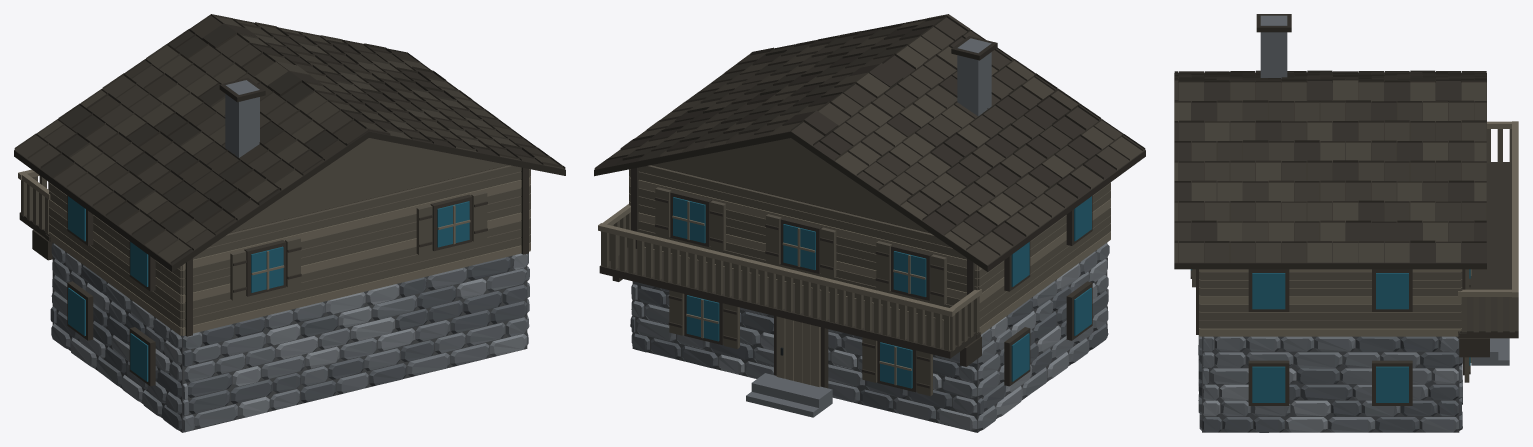
The model's file is Baita_Grigia_Stagionata.obj.
3 views of the same model, side by side, from view 1: azimuth 30°, elevation 25°; view 2: azimuth 150°, elevation 25°; view 3: azimuth 270°, elevation 25° (orthographic).
Parts seen in each view (by area): view 1: Scandole_Legno, Pietre_Facciata_2, Tavole_Orizzontali, Pietre_Facciata_3, Frontoni_Legno, Nucleo_Piano_Terra, Tetto_Base, Persiane, Vetro_Laterale, Vetro, Camino, Cornice_Laterale (+3 smaller); view 2: Scandole_Legno, Tavole_Orizzontali, Pietre_Facciata_1, Listelli_Parapetto, Pietre_Facciata_3, Frontoni_Legno, Persiane, Vetro, Pavimento_Balcone, Tetto_Base, Cornice_Finestra, Corrimano (+12 smaller); view 3: Scandole_Legno, Pietre_Facciata_4, Tavole_Orizzontali, Tetto_Base, Pavimento_Balcone, Vetro_Laterale, Nucleo_Piano_Terra, Cornice_Laterale, Camino, Listelli_Laterali, Corrimano, Gradini (+5 smaller).
Boxes of the visible parts, left/top/right/bottom form: Scandole_Legno: left=14, top=14, right=565, bottom=264; Pietre_Facciata_2: left=182, top=253, right=527, bottom=431; Tavole_Orizzontali: left=49, top=165, right=530, bottom=335; Pietre_Facciata_3: left=50, top=243, right=181, bottom=430; Frontoni_Legno: left=230, top=138, right=507, bottom=232; Nucleo_Piano_Terra: left=52, top=242, right=527, bottom=432; Tetto_Base: left=14, top=131, right=565, bottom=271; Persiane: left=230, top=191, right=487, bottom=300; Vetro_Laterale: left=68, top=196, right=148, bottom=381; Vetro: left=251, top=201, right=469, bottom=292; Camino: left=225, top=80, right=259, bottom=157; Cornice_Laterale: left=67, top=196, right=155, bottom=386; Scandole_Legno: left=594, top=14, right=1145, bottom=264; Tavole_Orizzontali: left=629, top=165, right=1110, bottom=334; Pietre_Facciata_1: left=631, top=281, right=977, bottom=431; Listelli_Parapetto: left=602, top=232, right=949, bottom=350; Pietre_Facciata_3: left=977, top=243, right=1109, bottom=430; Frontoni_Legno: left=652, top=138, right=929, bottom=232; Persiane: left=655, top=187, right=946, bottom=396; Vetro: left=673, top=197, right=926, bottom=388; Pavimento_Balcone: left=599, top=247, right=980, bottom=358; Tetto_Base: left=594, top=131, right=1145, bottom=271; Cornice_Finestra: left=670, top=190, right=932, bottom=392; Corrimano: left=598, top=223, right=955, bottom=316; Scandole_Legno: left=1174, top=70, right=1486, bottom=262; Pietre_Facciata_4: left=1202, top=336, right=1458, bottom=432; Tavole_Orizzontali: left=1199, top=269, right=1462, bottom=336; Tetto_Base: left=1174, top=73, right=1486, bottom=269; Pavimento_Balcone: left=1458, top=162, right=1518, bottom=338; Vetro_Laterale: left=1252, top=273, right=1408, bottom=402; Nucleo_Piano_Terra: left=1202, top=336, right=1459, bottom=432; Cornice_Laterale: left=1248, top=269, right=1412, bottom=405; Camino: left=1260, top=15, right=1287, bottom=78; Listelli_Laterali: left=1461, top=129, right=1514, bottom=332; Corrimano: left=1512, top=121, right=1518, bottom=297; Gradini: left=1471, top=338, right=1509, bottom=365.
Size of the model in its own units: 10.5 by 7.53 by 8.04.
